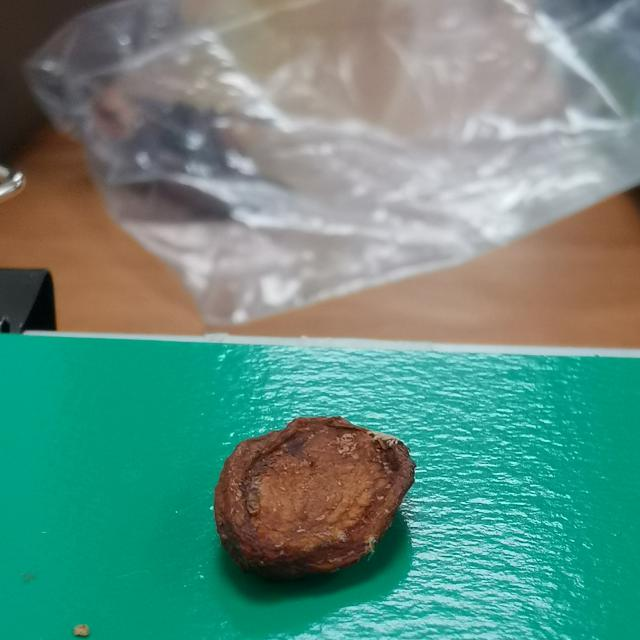Flat_cocoabeans: (148, 377, 469, 617)
